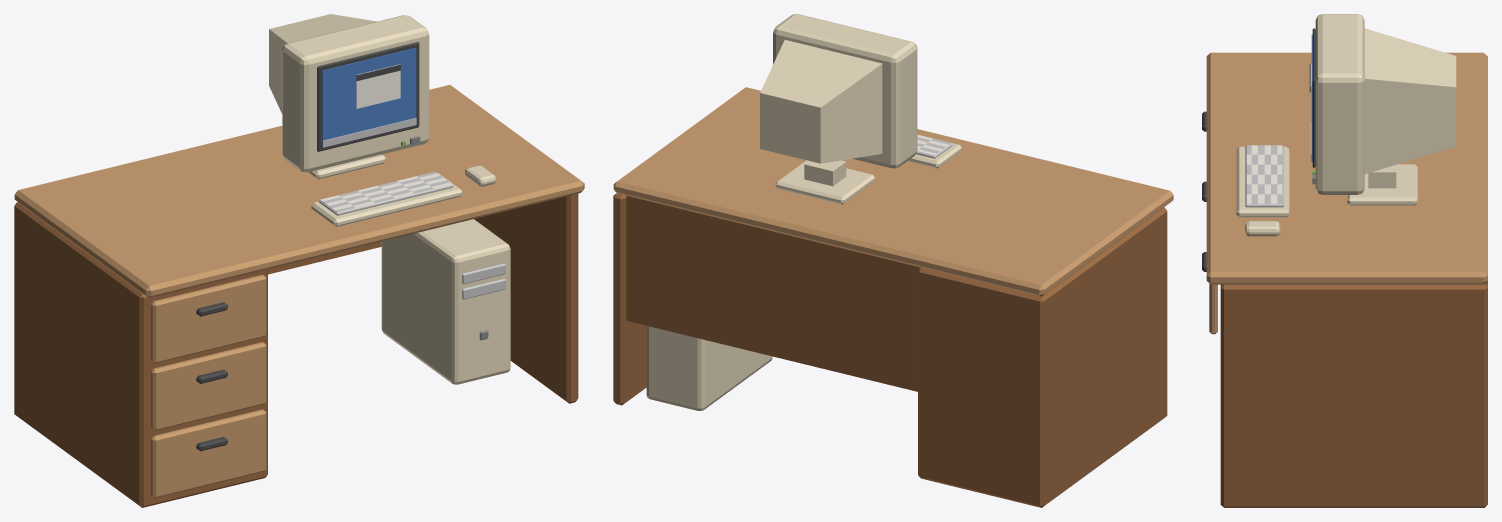
Rendered from computer_desk.glb.
3 views of the same model, side by side, from view 1: azimuth 30°, elevation 25°; view 2: azimuth 150°, elevation 25°; view 3: azimuth 270°, elevation 25° (orthographic). The views are drawn at different scales.
Visible parts, largest first — view 1: computer_desk; view 2: computer_desk; view 3: computer_desk.
Boxes of the visible parts, x1,y1,x2,y2 form: computer_desk: (14, 14, 584, 507); computer_desk: (613, 14, 1173, 507); computer_desk: (1202, 14, 1487, 507).
Size of the model in its own units: 1.5 by 1.19 by 0.8125.
1 material, 1 textured.
